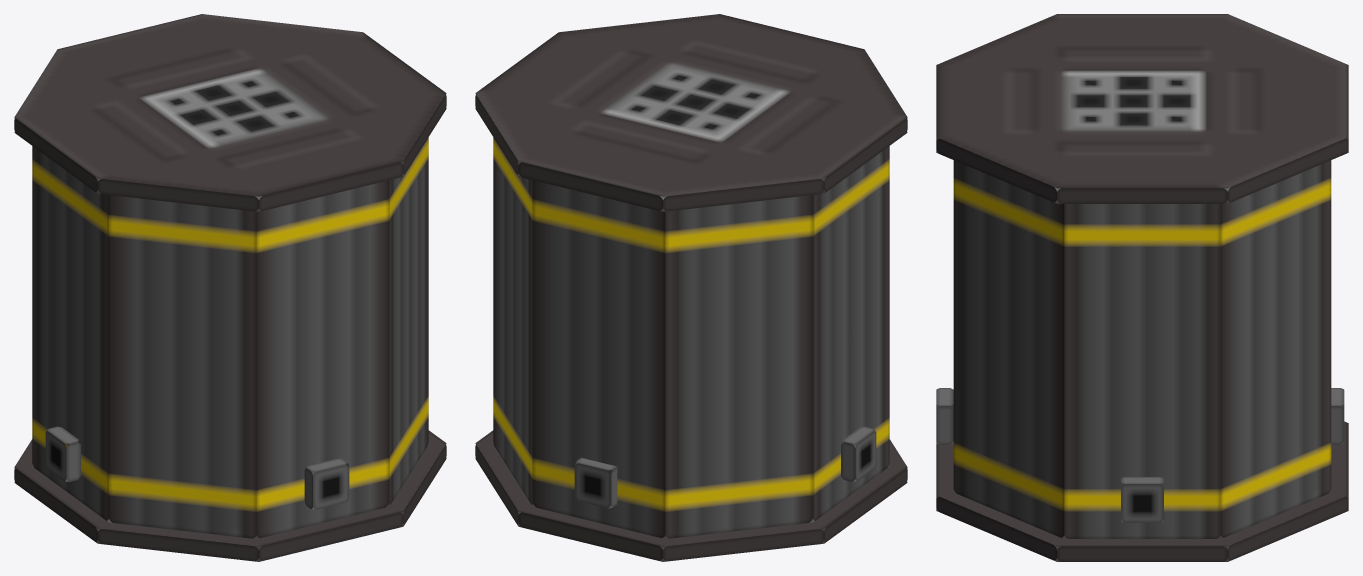
Rendered from fractioning_tower.obj.
The picture shows the model from 3 angles, left to right: view 1: azimuth 30°, elevation 25°; view 2: azimuth 150°, elevation 25°; view 3: azimuth 270°, elevation 25°; orthographic projection. The views are drawn at different scales.
Parts seen in each view (by area): view 1: cube; view 2: cube; view 3: cube.
Part boxes in pixels (left/top/right/bottom): cube: left=14, top=14, right=446, bottom=561; cube: left=475, top=14, right=907, bottom=561; cube: left=936, top=14, right=1348, bottom=561.
Size of the model in its own units: 3 by 3 by 3.
